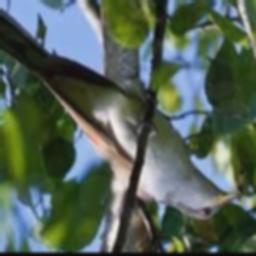Cuckoo: (0, 0, 236, 221)
